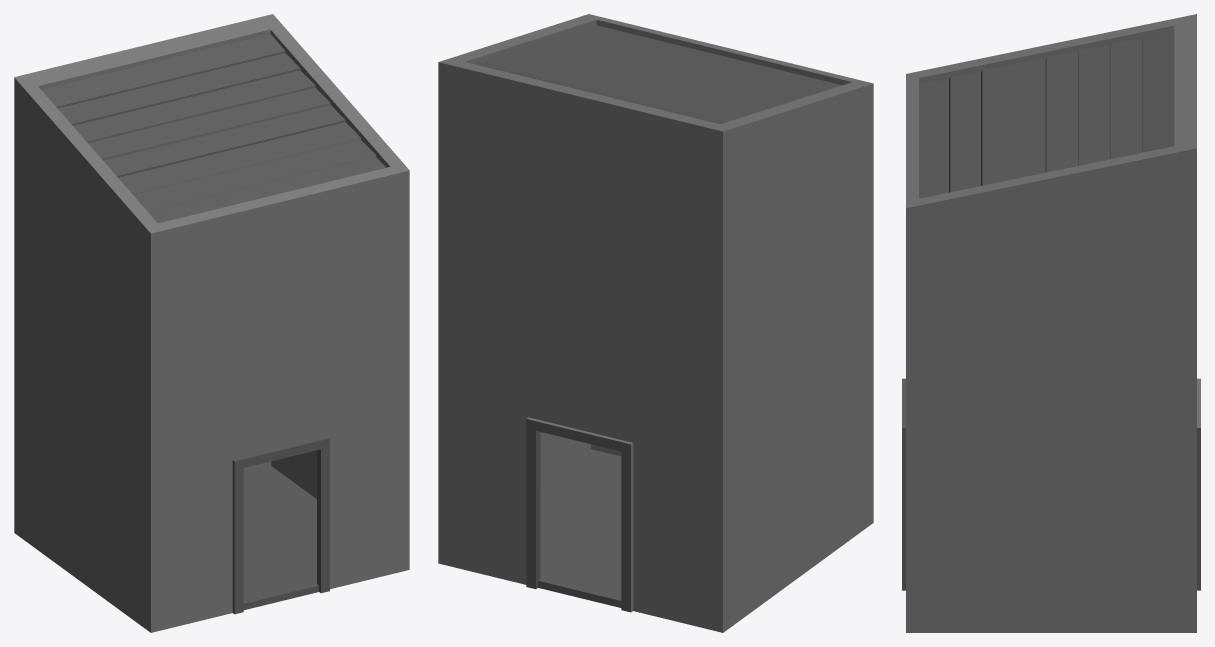
Rendered from HighBuilding2-2.fbx.
3 renders of one model, left to right at view 1: azimuth 30°, elevation 25°; view 2: azimuth 150°, elevation 25°; view 3: azimuth 270°, elevation 25°, orthographic. The views are drawn at different scales.
Parts seen in each view (by area): view 1: HighBuilding2.001_LOD0; view 2: HighBuilding2.001_LOD0; view 3: HighBuilding2.001_LOD0.
Part boxes in pixels (box(x1,y1,x2,y2)): HighBuilding2.001_LOD0: box(14, 14, 409, 632); HighBuilding2.001_LOD0: box(438, 14, 873, 632); HighBuilding2.001_LOD0: box(902, 14, 1200, 632).
Size of what is drawn, in the model's own units: 846 by 1423 by 796.
1 material, 1 textured.
